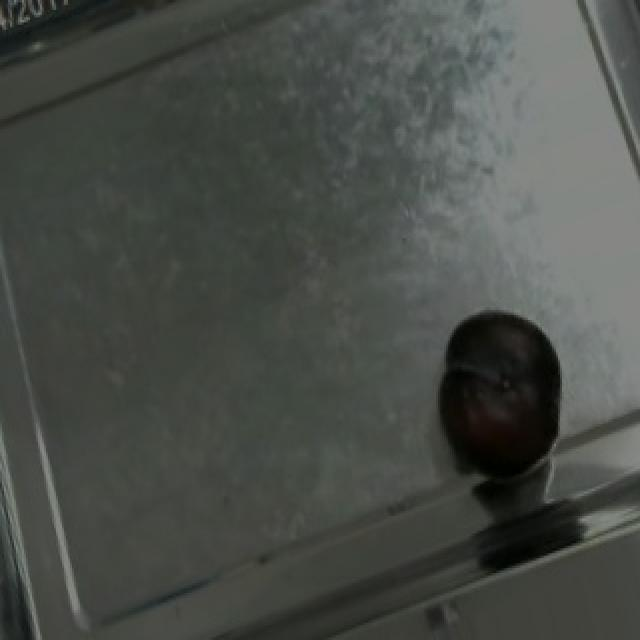Fruit: (418, 290, 582, 501)
